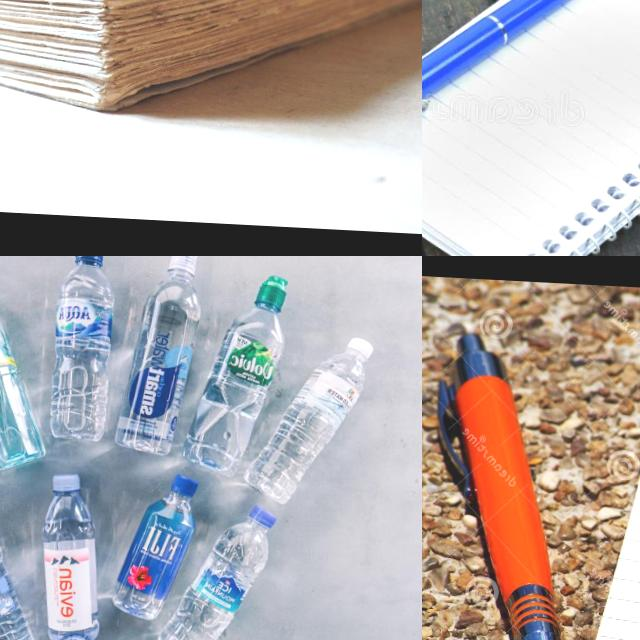garrafa plástica: (242, 346, 366, 510), (182, 301, 291, 478), (111, 268, 208, 459), (155, 521, 275, 640), (46, 262, 116, 445), (108, 489, 198, 624), (37, 490, 109, 640), (0, 291, 56, 476), (0, 519, 41, 640)
papel: (422, 0, 640, 256), (0, 0, 422, 132)
tampa plástica: (254, 283, 287, 312), (342, 334, 376, 362), (51, 470, 84, 496), (170, 472, 200, 498), (248, 504, 278, 530), (167, 256, 198, 280), (74, 256, 105, 266)
